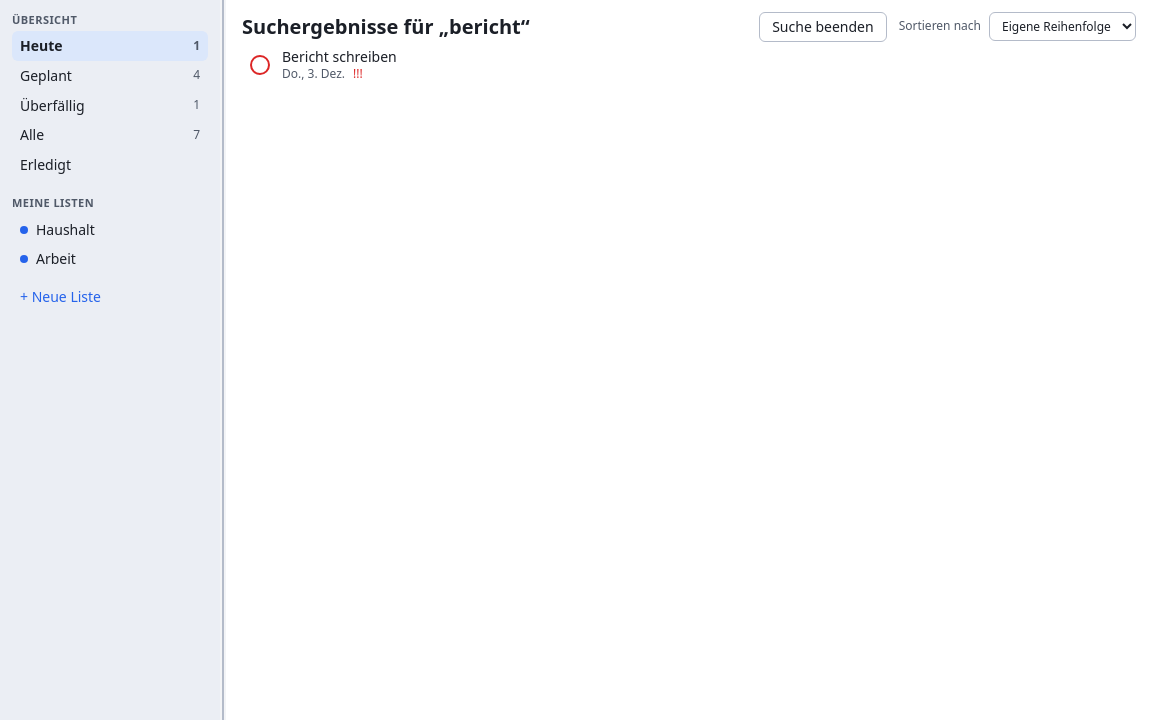
it: Aufgabenbereich › zeigt Suchtreffer, wenn die Schnellsuche sie anfordert, und beendet die Suche
Later steps or results of the test are not shown.
Expected: the heading "Suchergebnisse für „bericht“" is shown, [242,13,530,40]
Expected: the button with aria-label "Bericht schreiben öffnen" is shown, [282,45,1096,85]
Step 1. Click the button "Suche beenden" → [823, 27], box [759,12,887,42]
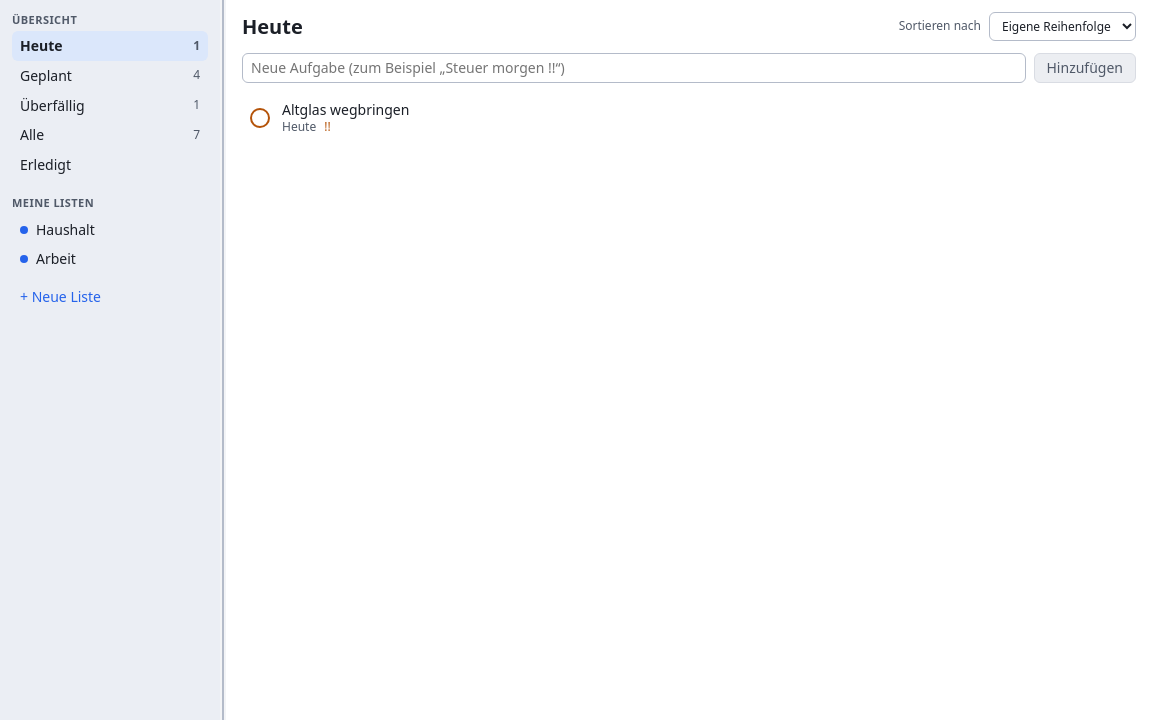
Expected: the heading "Heute" is shown, [242,12,303,40]
